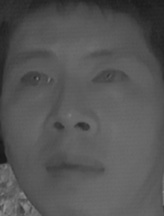eye: (86, 66, 131, 91), (14, 69, 55, 92)
mouth: (42, 149, 110, 189)
